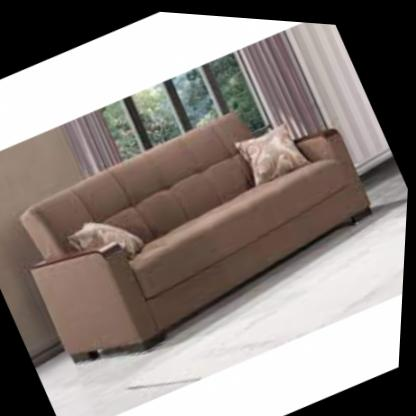Sofa: (0, 50, 400, 395)
